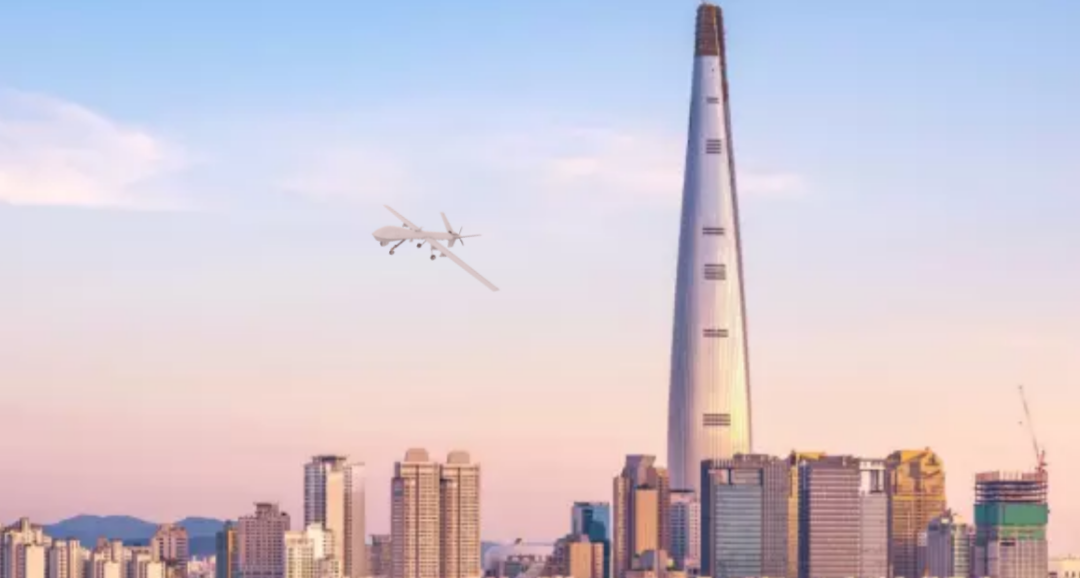military drone: (372, 205, 499, 292)
